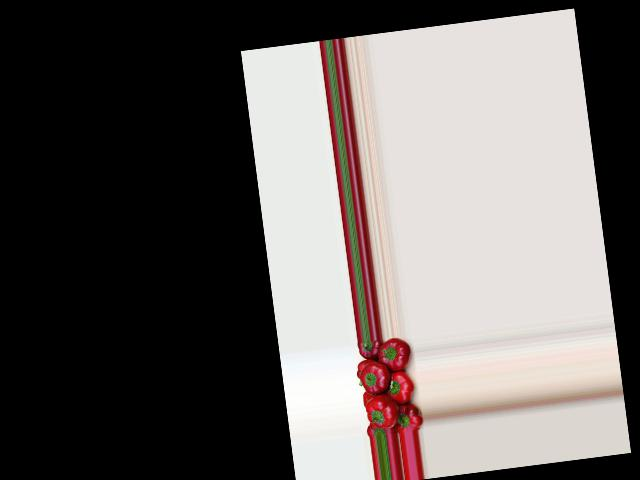bell_pepper: (360, 390, 375, 405)
